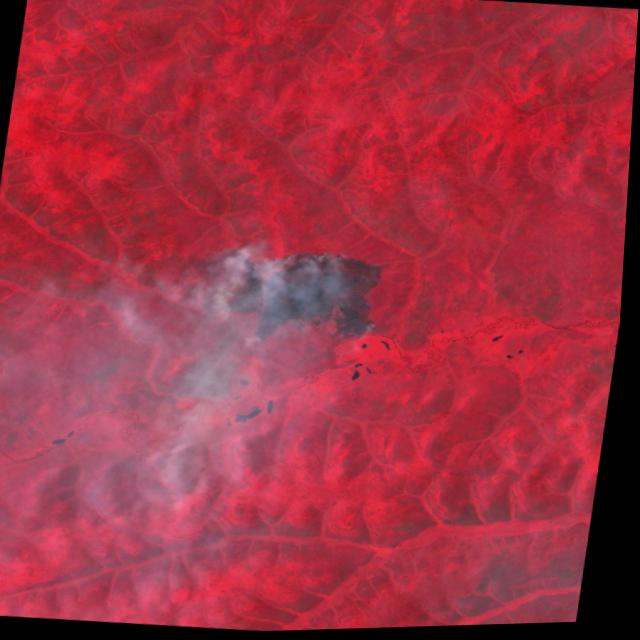fire: (214, 238, 394, 356)
